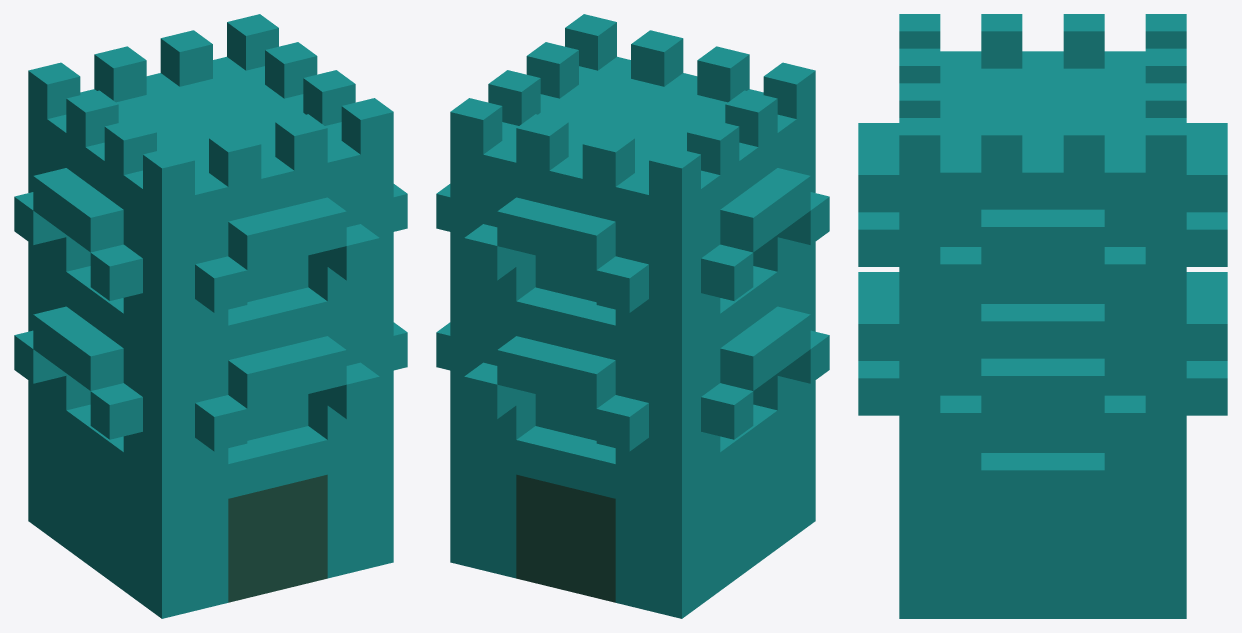
The model's file is Castle.obj.
3 views of the same model, side by side, from view 1: azimuth 30°, elevation 25°; view 2: azimuth 150°, elevation 25°; view 3: azimuth 270°, elevation 25° (orthographic). The views are drawn at different scales.
Parts seen in each view (by area): view 1: material_0_group, material_1_group; view 2: material_0_group, material_1_group; view 3: material_0_group.
Boxes of the visible parts, bbox=[...] form: material_0_group: bbox=[14, 14, 407, 618]; material_1_group: bbox=[228, 474, 327, 602]; material_0_group: bbox=[436, 14, 829, 618]; material_1_group: bbox=[516, 474, 615, 602]; material_0_group: bbox=[858, 14, 1227, 618].
Size of the model in its own units: 9 by 13 by 9.
